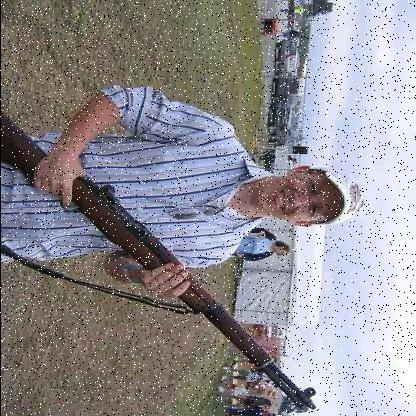rifle: (1, 91, 321, 414)
